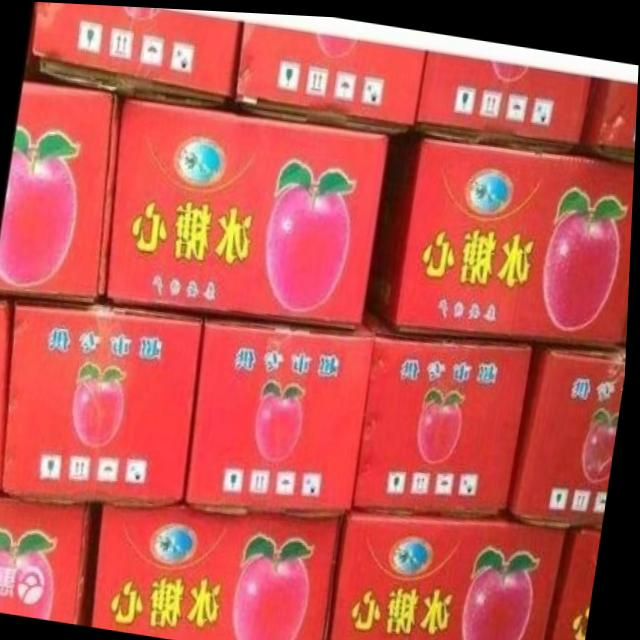box: (109, 94, 389, 327), (367, 131, 636, 344), (5, 302, 207, 504), (189, 313, 377, 513), (358, 300, 536, 507), (97, 503, 346, 640), (335, 508, 570, 640), (0, 81, 121, 302), (28, 1, 243, 105), (514, 338, 629, 520), (236, 19, 426, 129), (416, 48, 592, 144), (0, 496, 98, 624), (550, 522, 606, 640), (581, 70, 638, 151), (0, 300, 16, 491)
